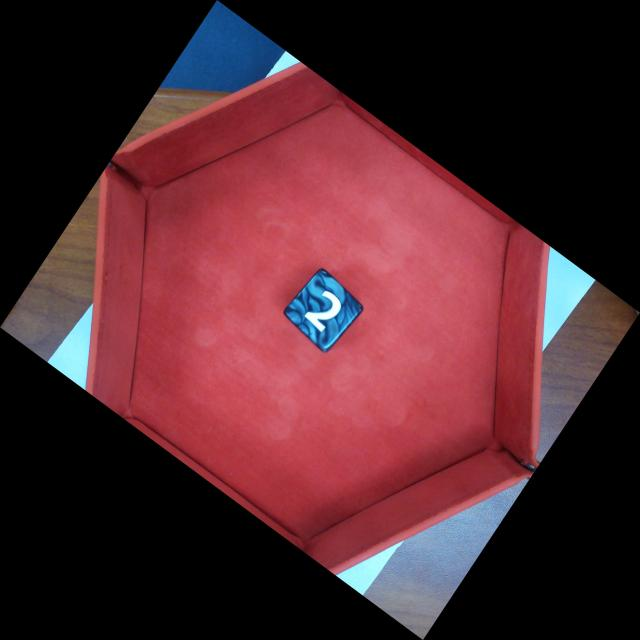dice: (280, 268, 366, 356)
